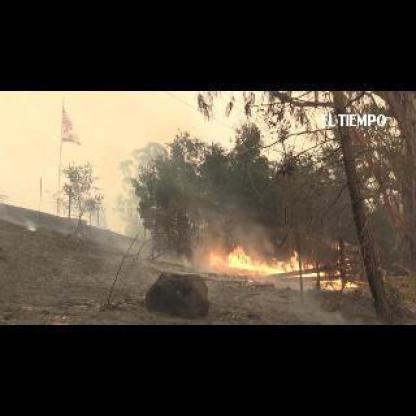fire: (206, 243, 355, 287)
